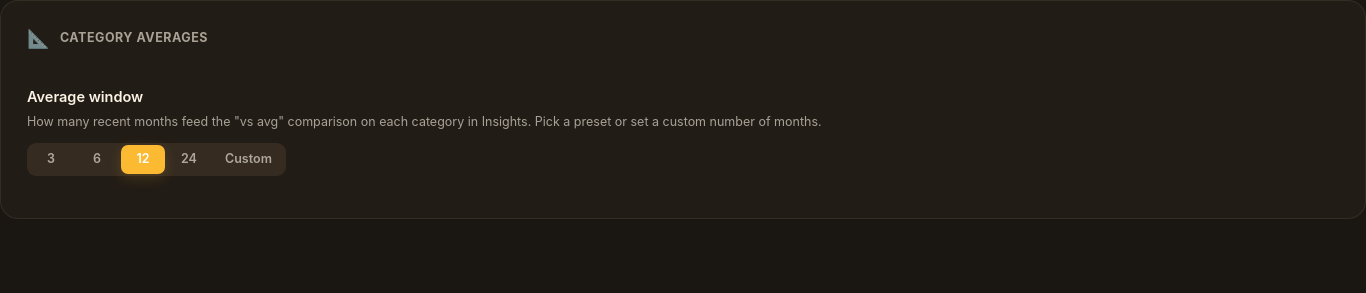
CategoryAveragesCard › clicking Custom reveals the input prefilled with the current value
What coordinates should you click on to do the following:
click the button "Custom"
I would click on:
 (248, 159)
Its box is x1=213 y1=145 x2=284 y2=174.
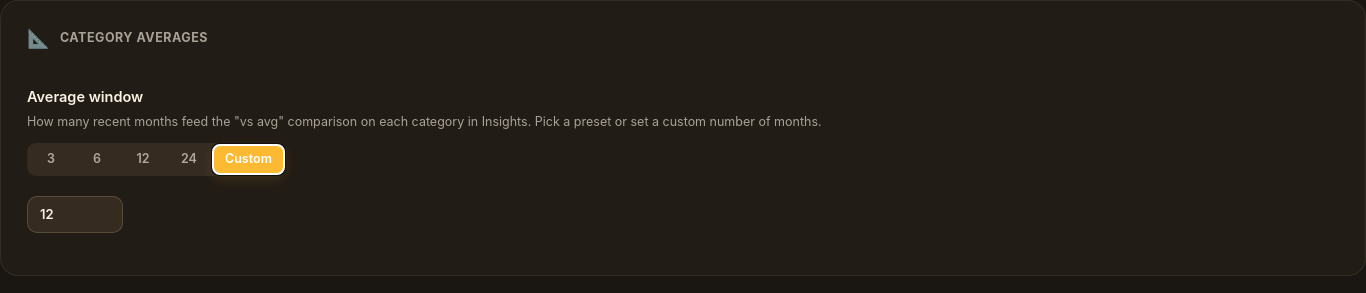
Expected: the number field named "custom months" holds "12", x1=27 y1=196 x2=123 y2=233
